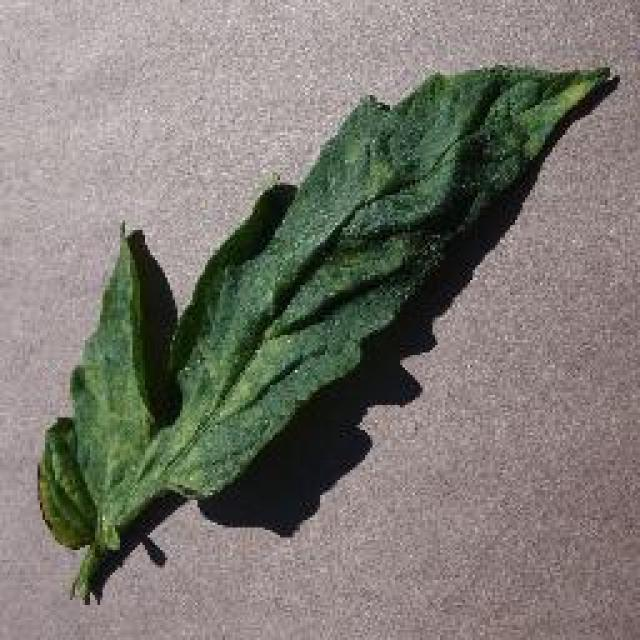Tom_Leaf_Mold: (295, 145, 435, 326)
